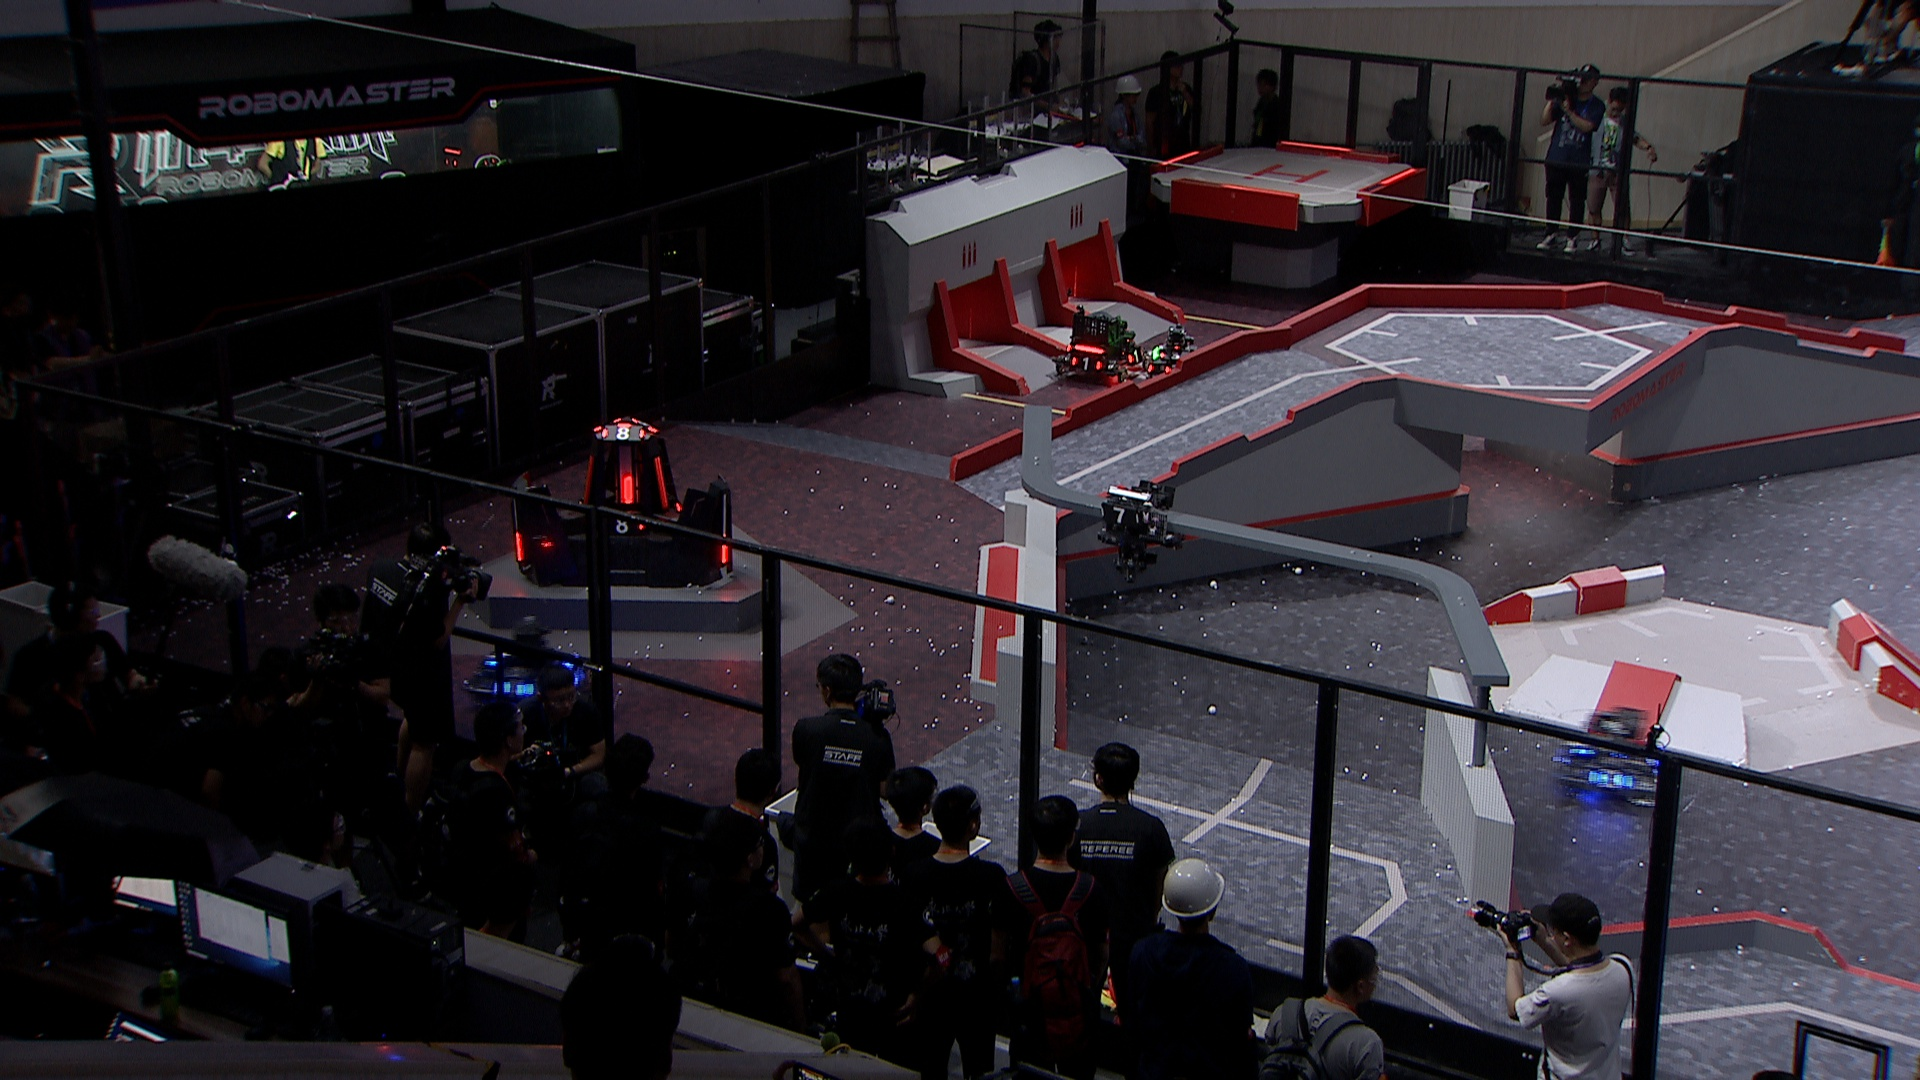armor: (1586, 767, 1636, 793), (651, 455, 671, 513), (580, 452, 597, 506), (1097, 505, 1141, 526), (491, 679, 537, 699), (617, 473, 640, 510), (599, 427, 647, 443), (608, 517, 646, 537), (510, 527, 527, 564), (1561, 737, 1593, 757), (1069, 353, 1102, 372), (1125, 347, 1145, 367), (717, 543, 732, 567), (1156, 351, 1183, 363)
base: (508, 419, 735, 589)
car: (455, 616, 593, 713), (1552, 707, 1669, 814), (1051, 306, 1147, 384), (1141, 322, 1205, 384)
watcher: (1093, 476, 1185, 583)
